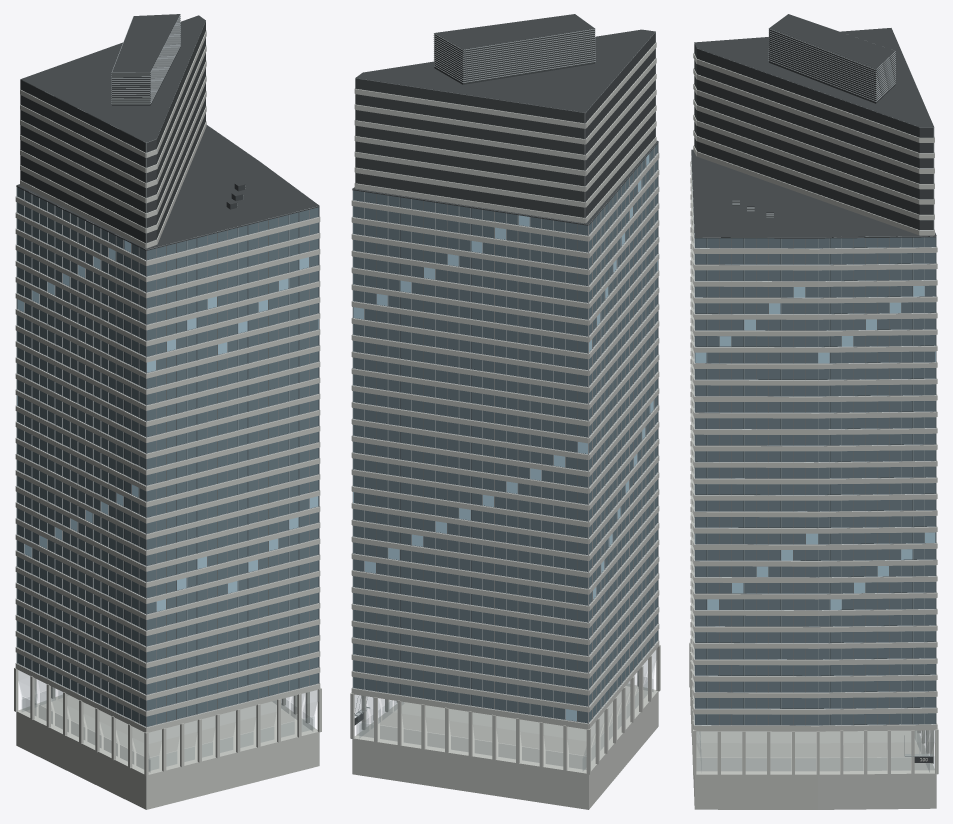
The model's file is wacker_200.glb.
3 views of the same model, side by side, from view 1: azimuth 30°, elevation 25°; view 2: azimuth 150°, elevation 25°; view 3: azimuth 270°, elevation 25° (orthographic). The views are drawn at different scales.
Parts seen in each view (by area): view 1: Recessed grey blue office panes, Pale precast facade panels, Recessed service roof and louvres, Projecting silver facade frames, Clear angled lobby glazing, Night occupied office panes; view 2: Recessed grey blue office panes, Pale precast facade panels, Recessed service roof and louvres, Projecting silver facade frames, Clear angled lobby glazing, Night occupied office panes; view 3: Recessed grey blue office panes, Pale precast facade panels, Recessed service roof and louvres, Projecting silver facade frames, Clear angled lobby glazing, Night occupied office panes.
Boxes of the visible parts, x1,y1,x2,y2 form: Recessed grey blue office panes: (17,187,318,726); Pale precast facade panels: (14,30,321,809); Recessed service roof and louvres: (16,14,319,726); Projecting silver facade frames: (16,14,319,727); Clear angled lobby glazing: (18,670,317,771); Night occupied office panes: (17,240,318,611); Recessed grey blue office panes: (353,143,657,722); Pale precast facade panels: (350,42,660,809); Recessed service roof and louvres: (352,14,658,725); Projecting silver facade frames: (352,15,658,723); Clear angled lobby glazing: (355,650,656,770); Night occupied office panes: (353,154,657,721); Recessed grey blue office panes: (695,237,935,725); Pale precast facade panels: (689,53,938,809); Recessed service roof and louvres: (691,14,936,762); Projecting silver facade frames: (691,17,936,756); Clear angled lobby glazing: (696,730,934,772); Night occupied office panes: (695,286,935,609).
Size of the model in its own units: 51.01 by 162 by 51.26.
